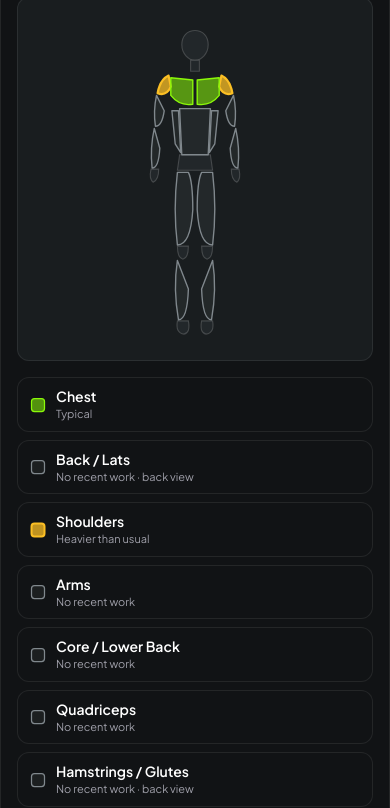
Test: states on the dashboard › historical sessions from local storage: real numbers, completed only, demo ignored when not in demo mode
(page scrolled)
Click the button "Chest Typical". click: (76, 396)
box: [17,377,373,432]
(page scrolled)
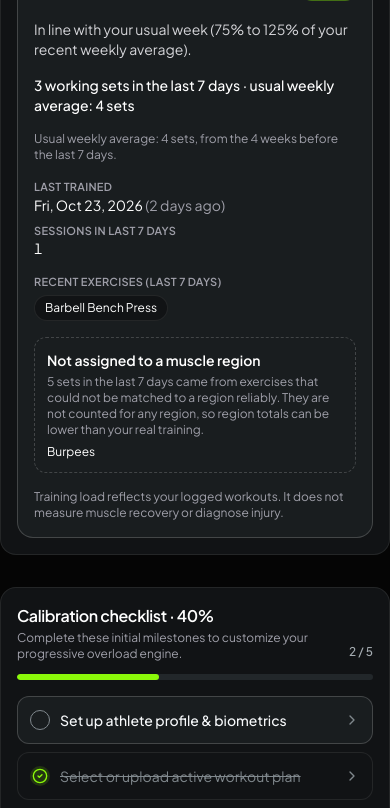
Check: the element with test id "unmapped-block" shows "Burpees", box [47,444,95,459]
Check: the element with test id "muscle-detail-panel" shows "3 working sets in the last 7 days · usual weekly average: 4 sets", box [34,76,334,114]
